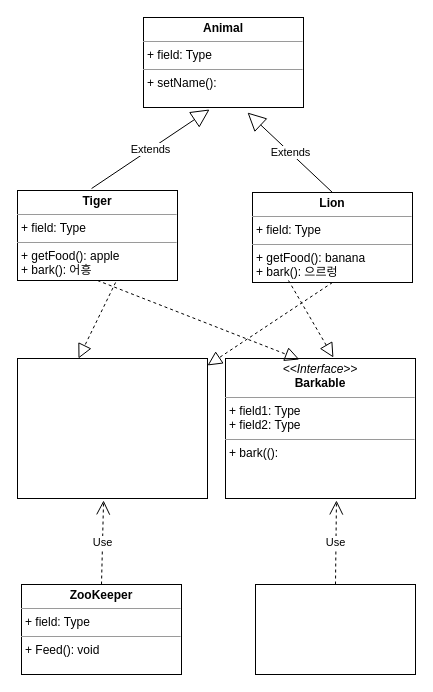
This 433x692 diagram has some shape labels left out. Here are the shapes that lost their labels. From the top down, the box of each, then its label:
(16, 358, 208, 498): <<Interface>> Predator + field1: Type + field2: Type + getFood(():
(254, 584, 416, 674): Bouncer + field: Type + barkAnimal():
